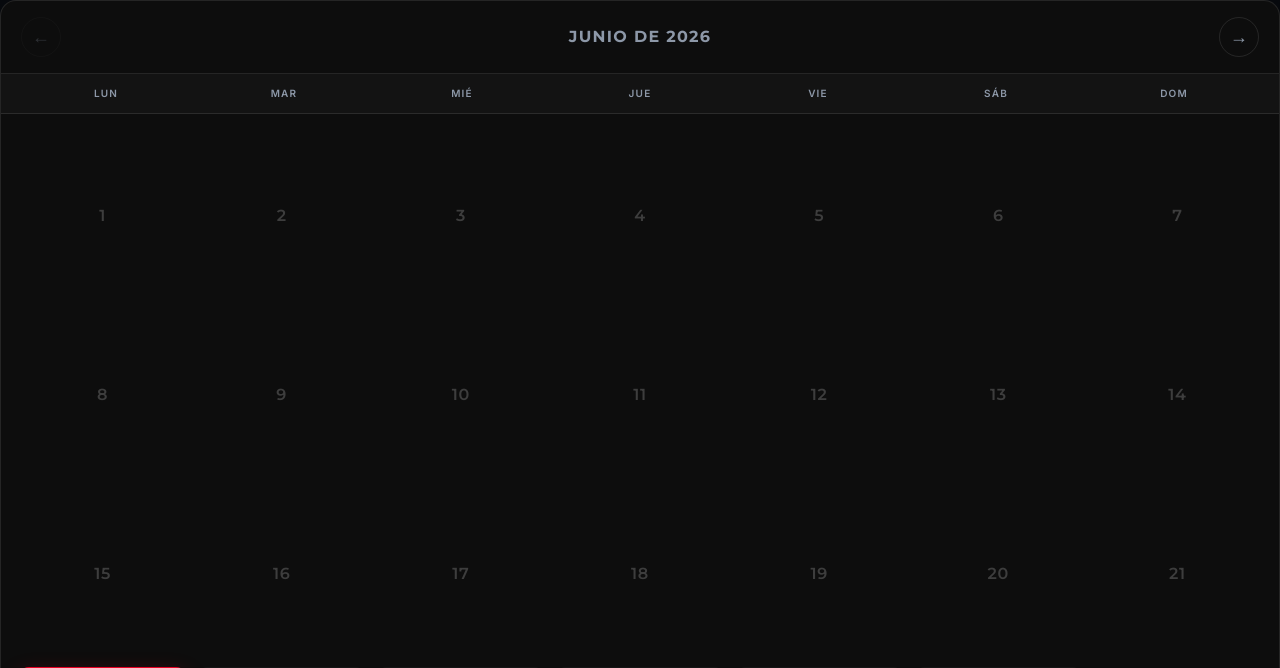
Test: AppointmentCalendar › navigates to the following month
Click the button named "Mes siguiente".
click(1239, 37)  # box x1=1219 y1=17 x2=1259 y2=57
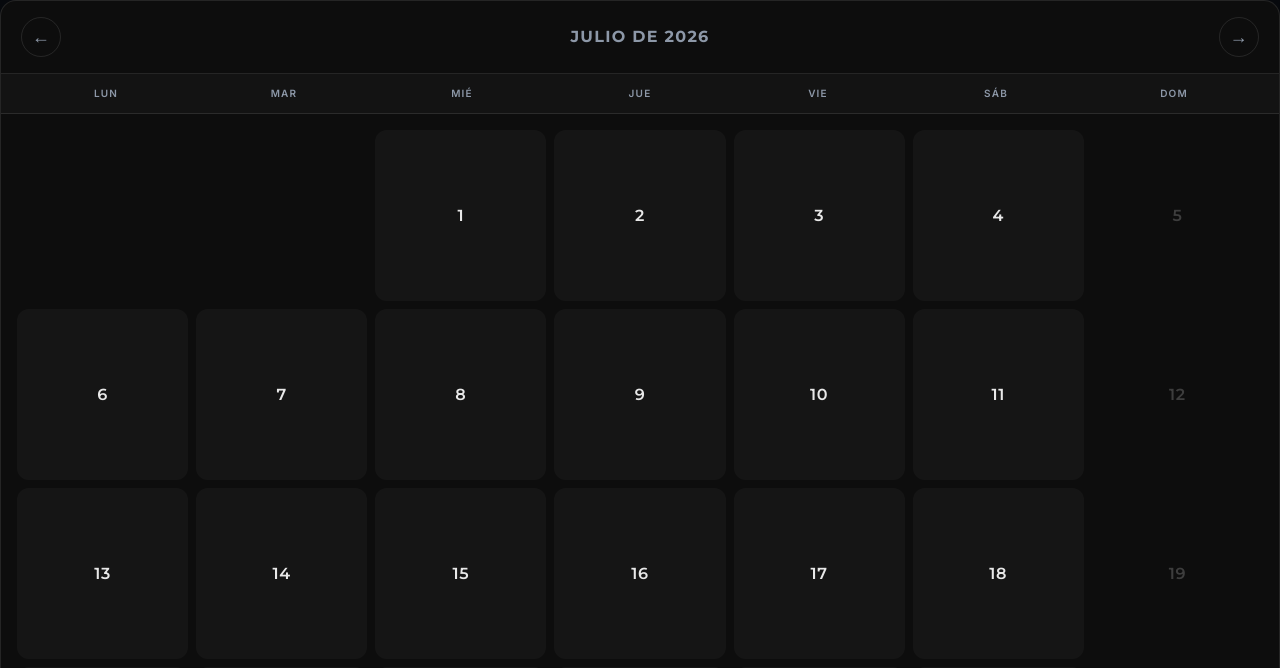
expect the text "julio de 2026" is shown: met, box x1=570 y1=24 x2=710 y2=50
